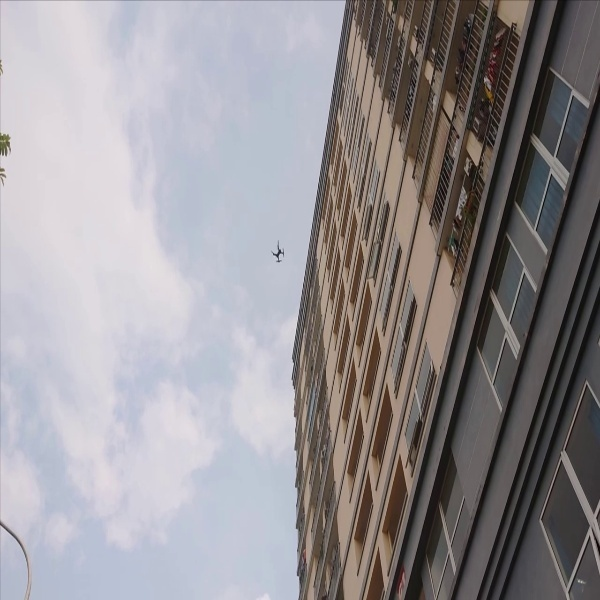drone: (266, 239, 291, 269)
